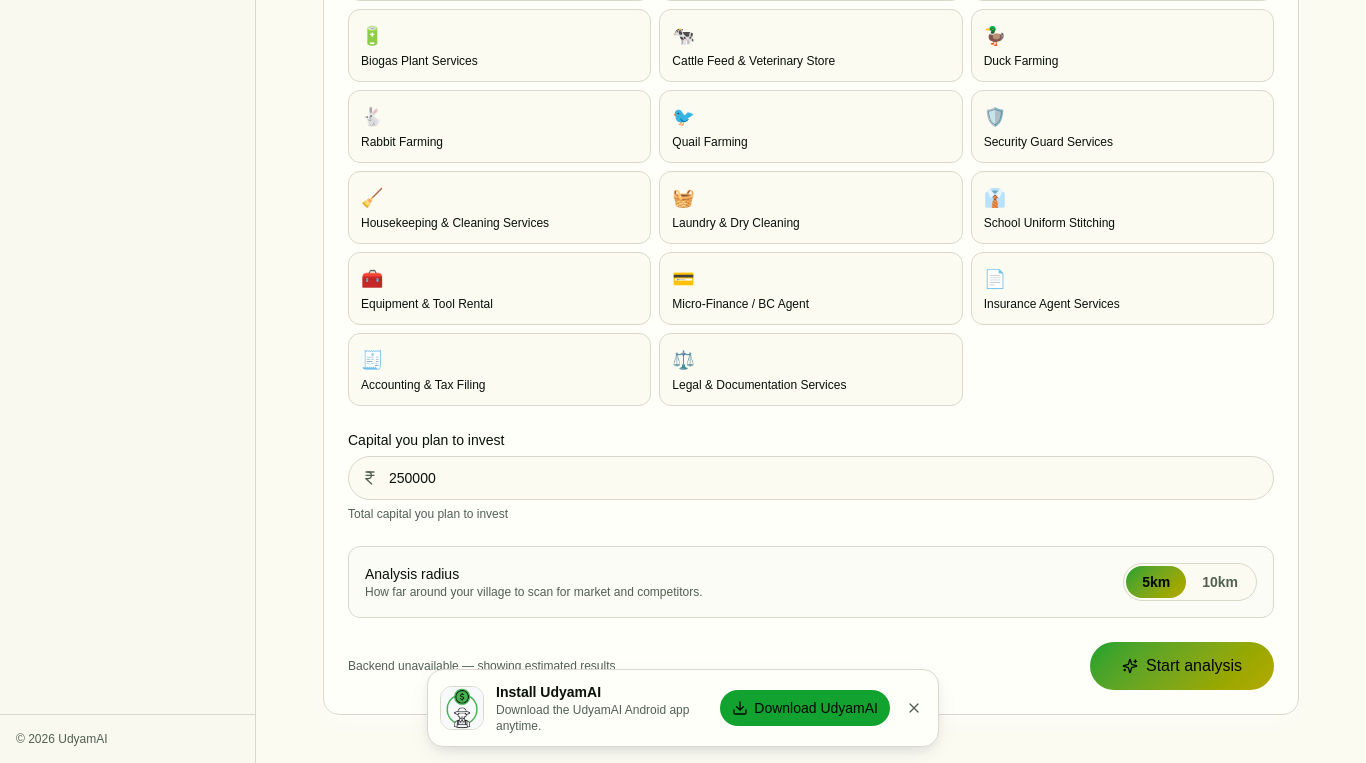
Scenario: NewAnalysisPage hyper-local analysis flow › validates required inputs before starting
(page scrolled)
// Clear the prefilled capital so the form is incomplete.
Step 1. Clear the number field labelled "Capital you plan to invest" → (811, 478), box [348,456,1274,500]
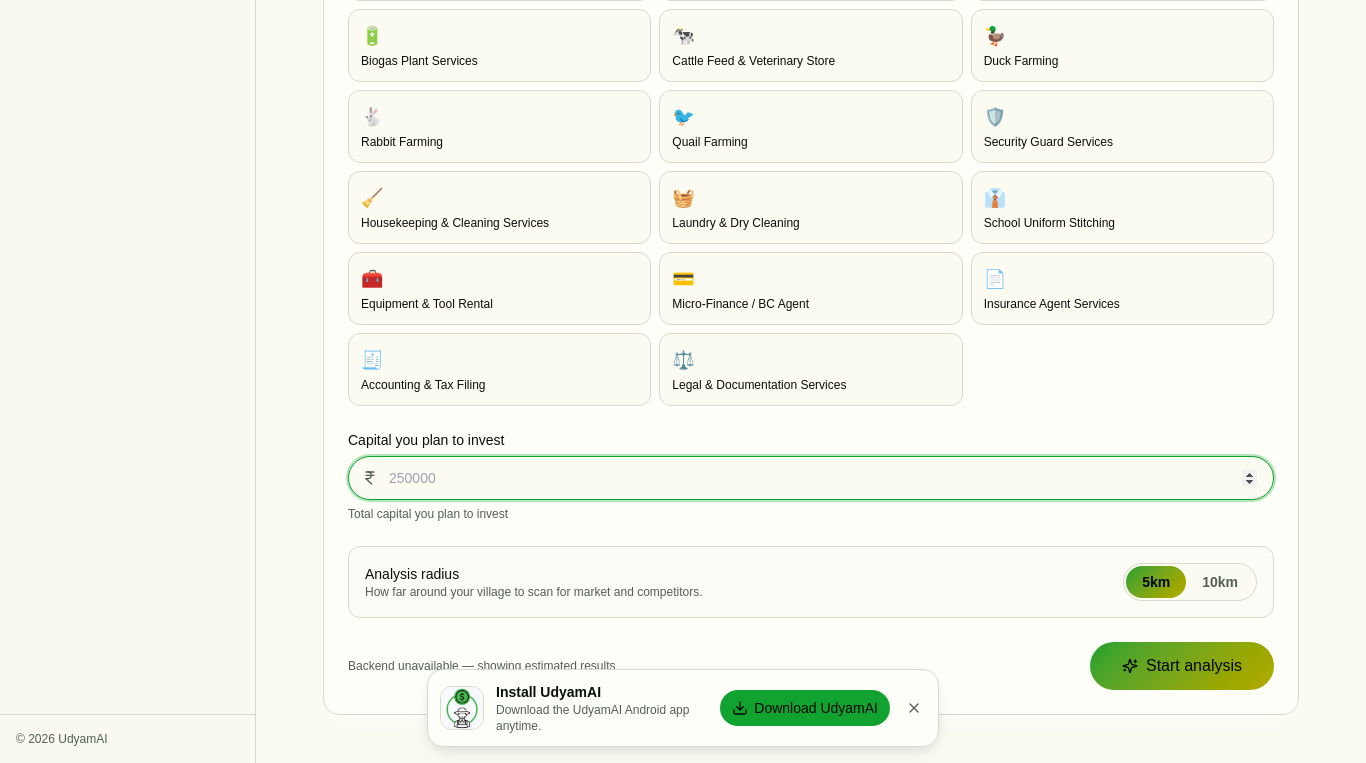
Step 2. Click the button "Start analysis" → (1182, 666), box [1090,642,1274,690]
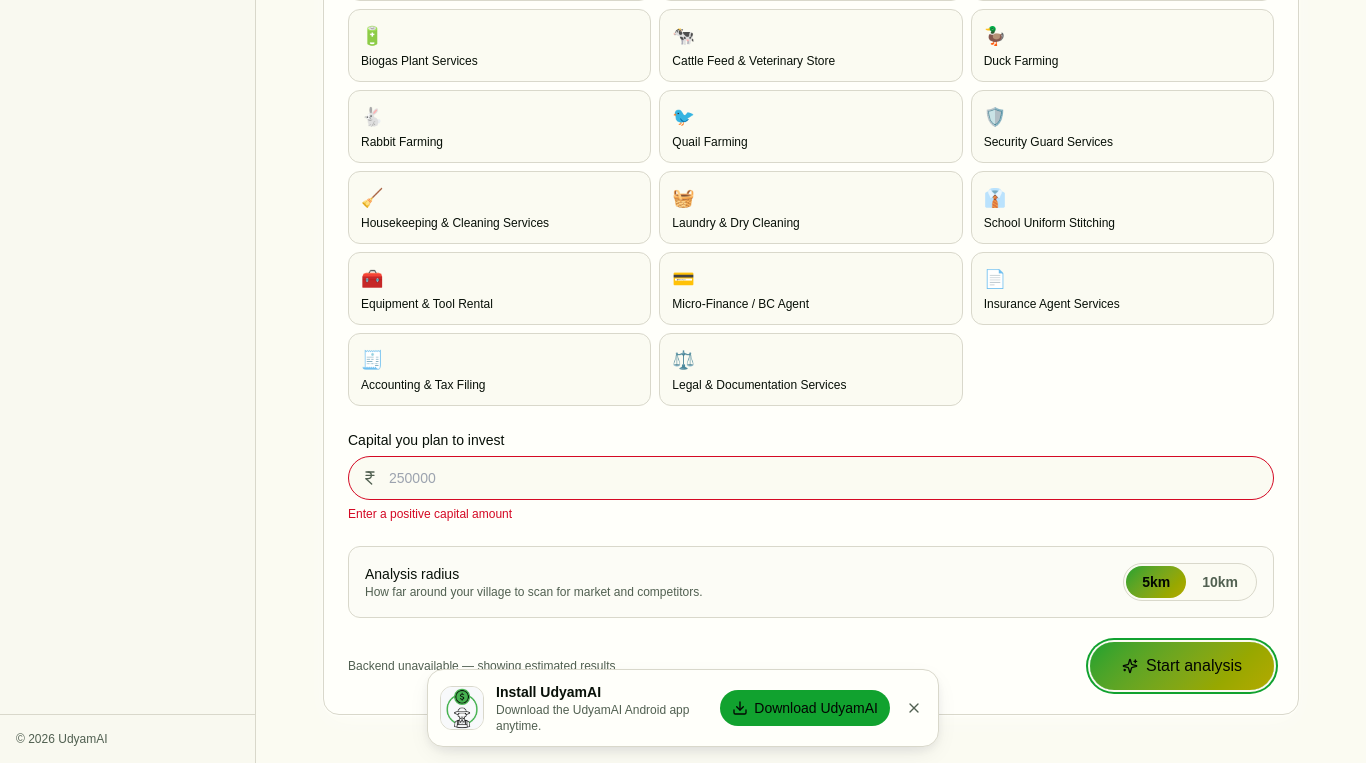
Now the text "Enter a positive capital amount" is shown, box [348,507,512,521]
